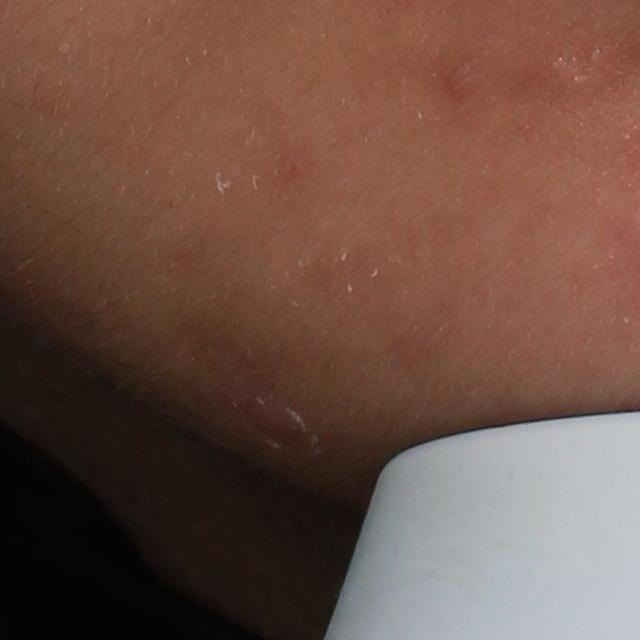papule: (443, 59, 485, 102)
